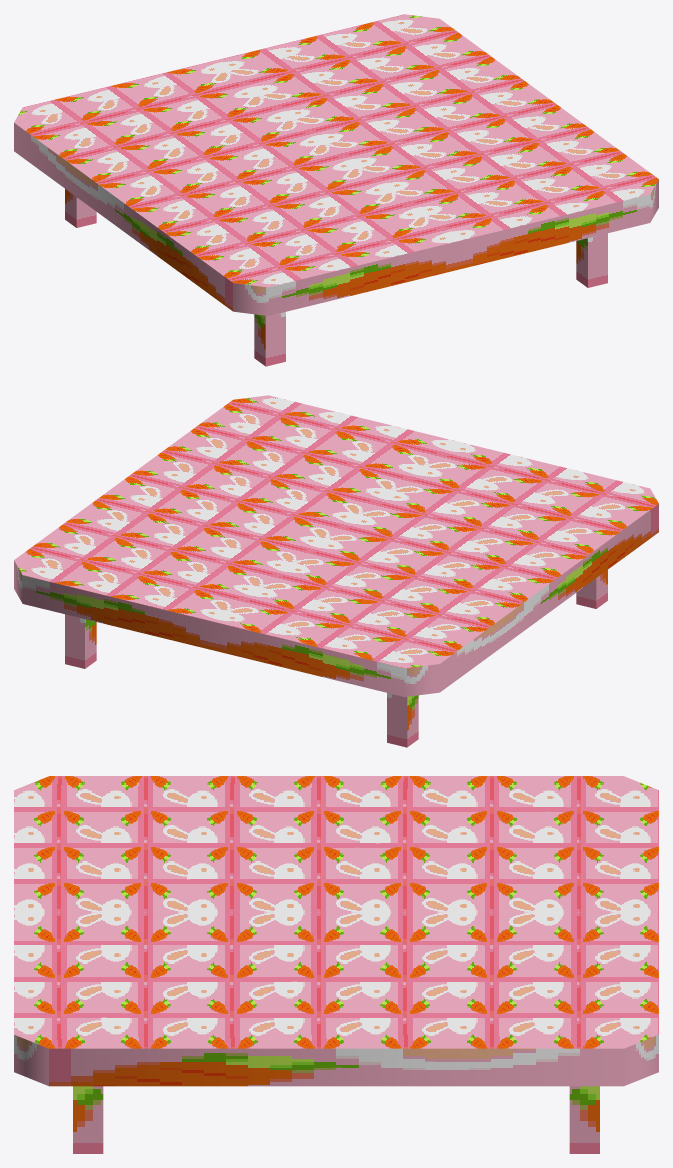
Rendered from 3844kg3_ser25.gltf.
The picture shows the model from 3 angles, top to bottom: view 1: azimuth 30°, elevation 25°; view 2: azimuth 150°, elevation 25°; view 3: azimuth 270°, elevation 25°; orthographic projection. The views are drawn at different scales.
Visible parts, largest first — view 1: 3844kg3_ser25; view 2: 3844kg3_ser25; view 3: 3844kg3_ser25.
Part boxes in pixels (bbox=[...]): 3844kg3_ser25: bbox=[14, 14, 658, 366]; 3844kg3_ser25: bbox=[14, 395, 658, 747]; 3844kg3_ser25: bbox=[14, 776, 658, 1153].
Bounding box in the file's own units: 1.95 × 0.4399 × 1.95.
Materials: 1 (1 with a texture image).
